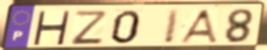0: (109, 9, 143, 45)
8: (225, 8, 256, 44)
A: (177, 8, 220, 44)
H: (30, 10, 72, 46)
I: (162, 8, 182, 45)
Z: (70, 10, 108, 47)
